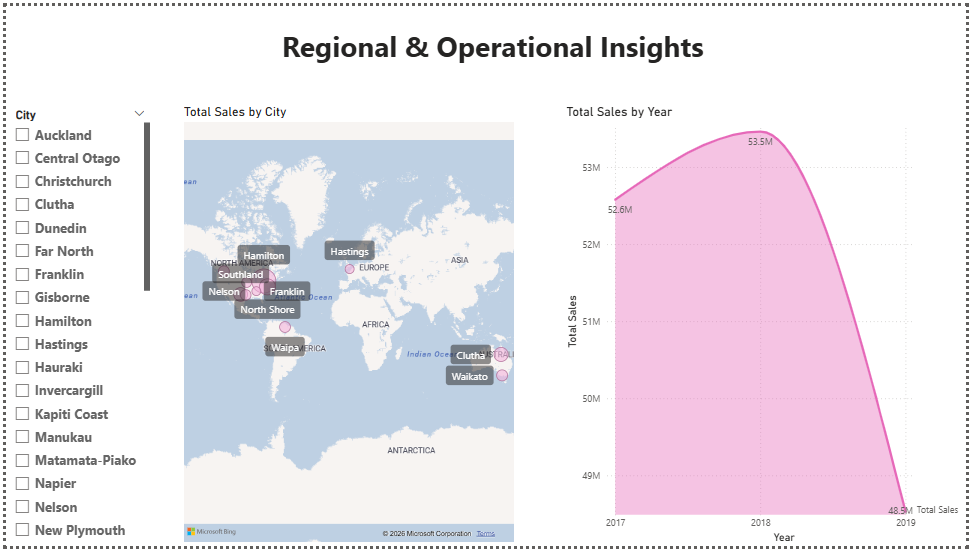

Layout of this report page (visuals, bound fields, positions):
{"tool":"powerbi","page":{"name":"Regional & Operational Insights","canvas":[1280,720],"ordinal":1},"visuals":[{"type":"lineChart","fields":{"Category":["Sales.Order Date.Variation.Date Hierarchy.Year","Sales.Order Date.Variation.Date Hierarchy.Quarter","Sales.Order Date.Variation.Date Hierarchy.Month","Sales.Order Date.Variation.Date Hierarchy.Day"],"Y":["Sales.Total Sales"]},"box":[741.7,130,538.3,590],"z":0},{"type":"map","fields":{"Category":["Regions.City"],"Size":["Sales.Total Sales"]},"box":[231.7,130,450,590],"z":1000},{"type":"textbox","box":[18.2,21.5,1262.2,66.3],"z":3001},{"type":"slicer","fields":{"Values":["Regions.City"]},"box":[0,129.2,197.1,591.4],"z":3002}]}

Visuals, with their boxes in screenshot pixels (x1, y1, x2, y2), scaled from the page's 1280x720 canvas onto the 971x552 screenshot:
lineChart - Sales.Order Date.Variation.Date Hierarchy.Year x Sales.Order Date.Variation.Date Hierarchy.Quarter: x1=563 y1=100 x2=970 y2=551
map - Regions.City x Sales.Total Sales: x1=176 y1=100 x2=517 y2=551
textbox: x1=14 y1=16 x2=970 y2=67
slicer - Regions.City: x1=0 y1=99 x2=150 y2=551
